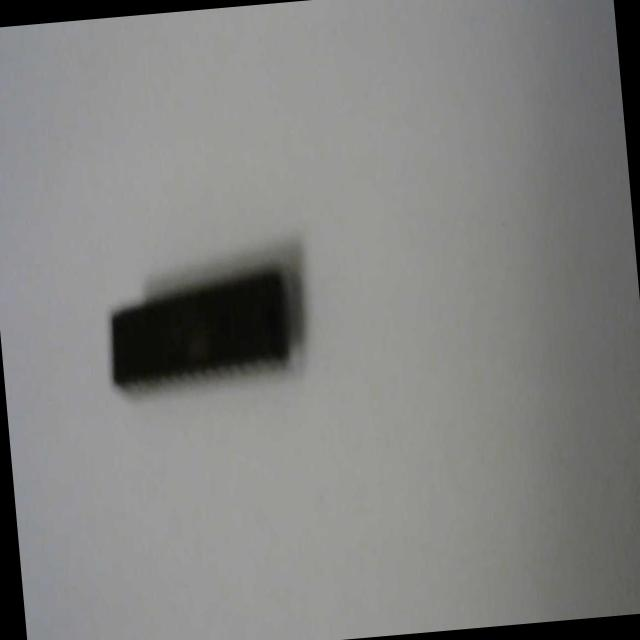atmega: (98, 250, 308, 402)
